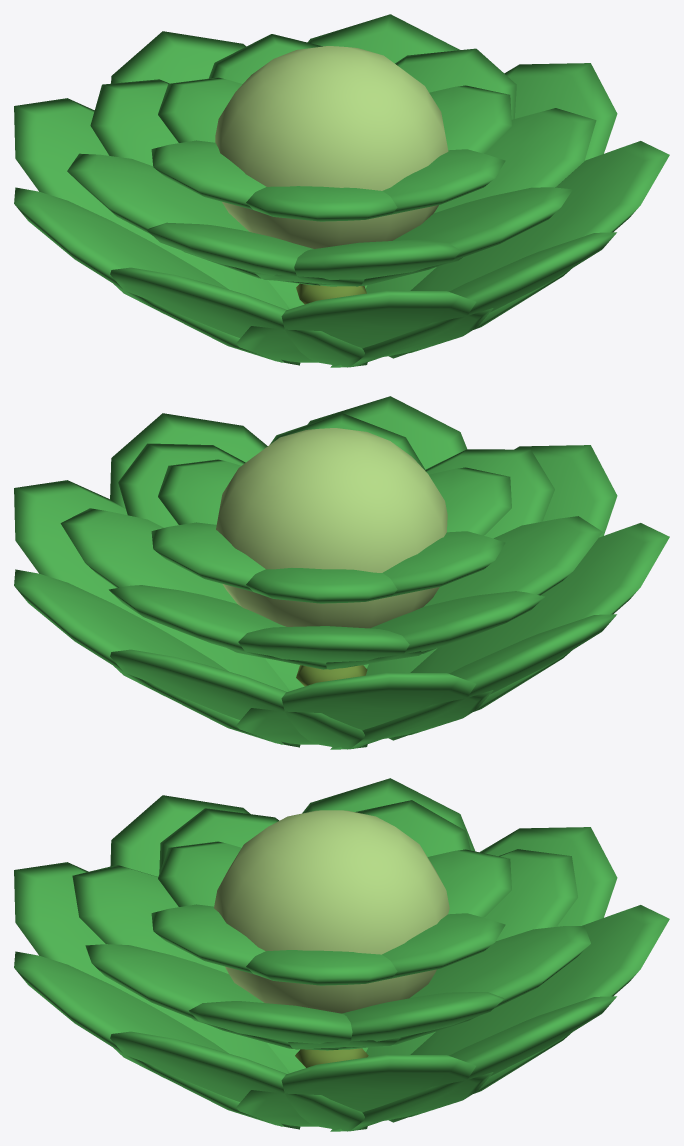
File: leafy.glb
The picture shows the model from 3 angles, top to bottom: view 1: azimuth 30°, elevation 25°; view 2: azimuth 150°, elevation 25°; view 3: azimuth 270°, elevation 25°; orthographic projection.
Parts seen in each view (by area): view 1: Leaf, Fruit, Stem; view 2: Leaf, Fruit, Stem; view 3: Leaf, Fruit, Stem.
Boxes of the visible parts, x1,y1,x2,y2 form: Leaf: [14, 14, 669, 367]; Fruit: [215, 46, 448, 248]; Stem: [296, 283, 366, 304]; Leaf: [14, 396, 669, 749]; Fruit: [216, 428, 447, 628]; Stem: [296, 665, 367, 686]; Leaf: [14, 778, 669, 1131]; Fruit: [214, 810, 449, 1013]; Stem: [295, 1048, 368, 1067].
Bounding box in the file's own units: 0.719 × 0.3429 × 0.7081.
